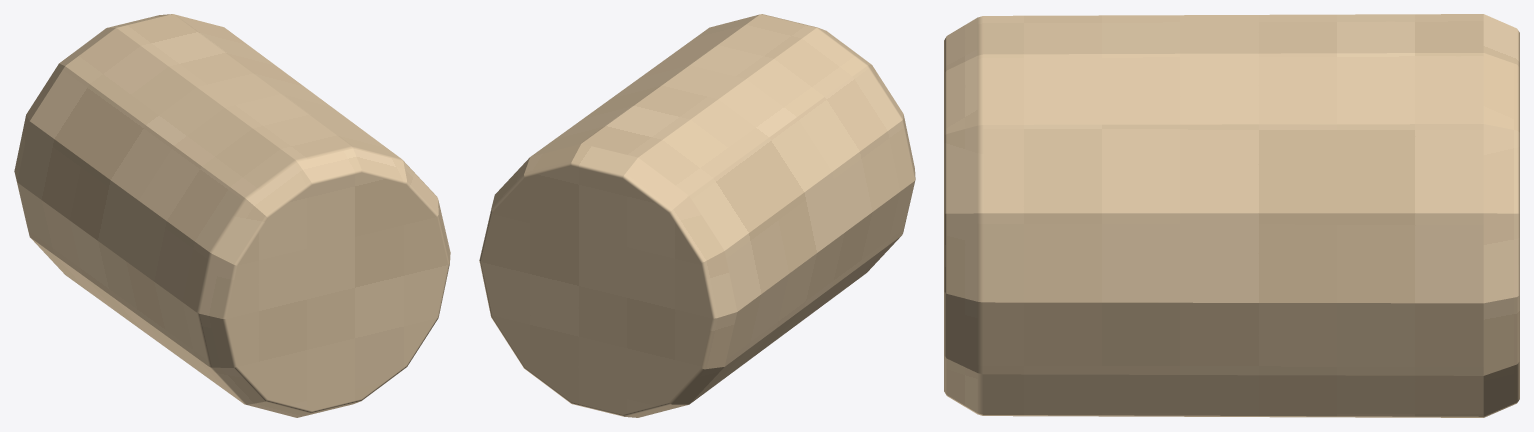
File: Rolled-linen.glb
The picture shows the model from 3 angles, left to right: view 1: azimuth 30°, elevation 25°; view 2: azimuth 150°, elevation 25°; view 3: azimuth 270°, elevation 25°; orthographic projection. The views are drawn at different scales.
Visible parts, largest first — view 1: Rolled-linen; view 2: Rolled-linen; view 3: Rolled-linen.
Boxes of the visible parts, x1,y1,x2,y2 form: Rolled-linen: (14, 14, 450, 417); Rolled-linen: (479, 14, 915, 417); Rolled-linen: (944, 14, 1519, 417).
Size of the model in its own units: 0.206 by 0.2008 by 0.287.
Materials: 1 (1 with a texture image).
